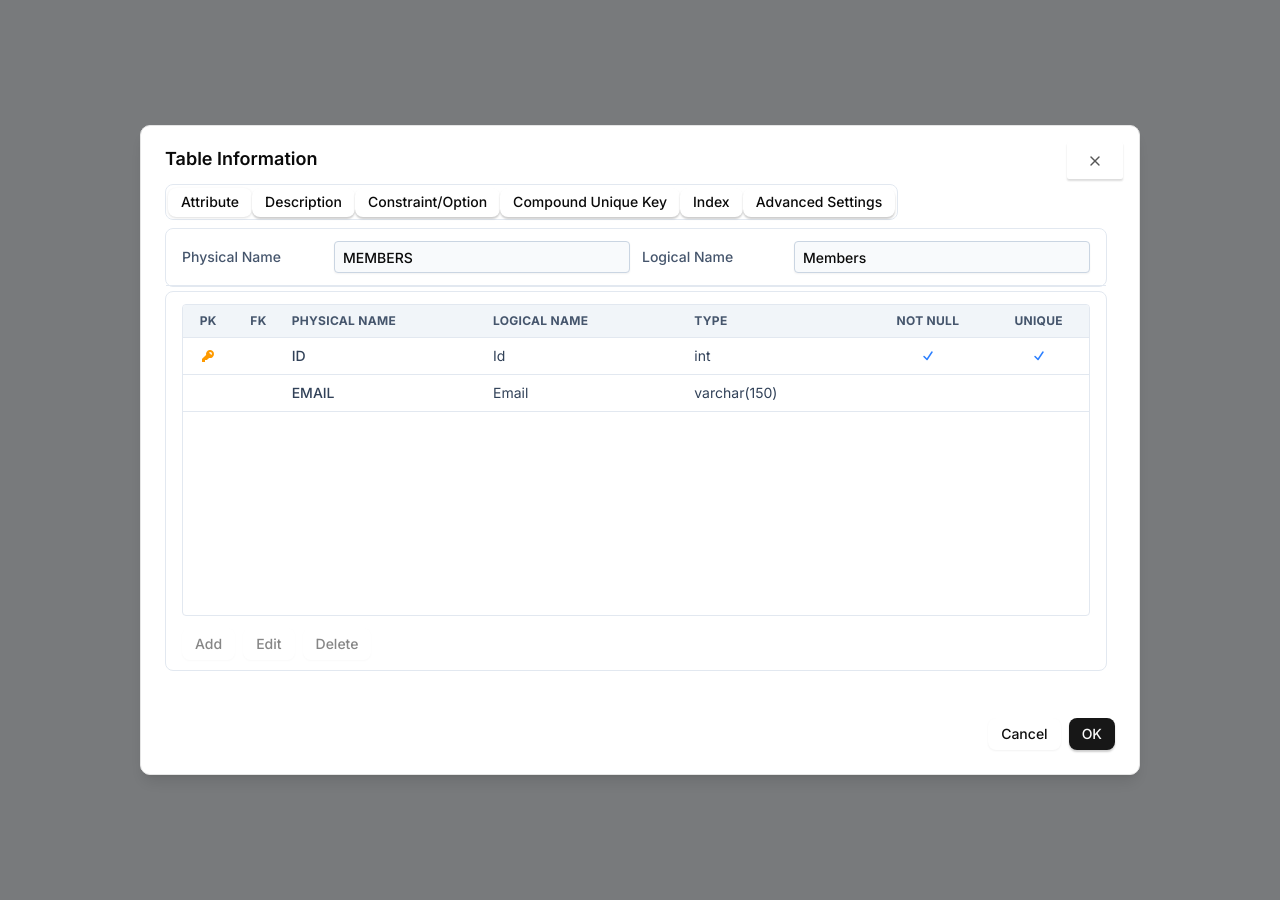
it: in read-only mode › opens the detail view for the selected row when Edit is clicked
Click the row "EMAIL Email varchar(150)".
click(313, 392)  # box [183,374,1089,412]
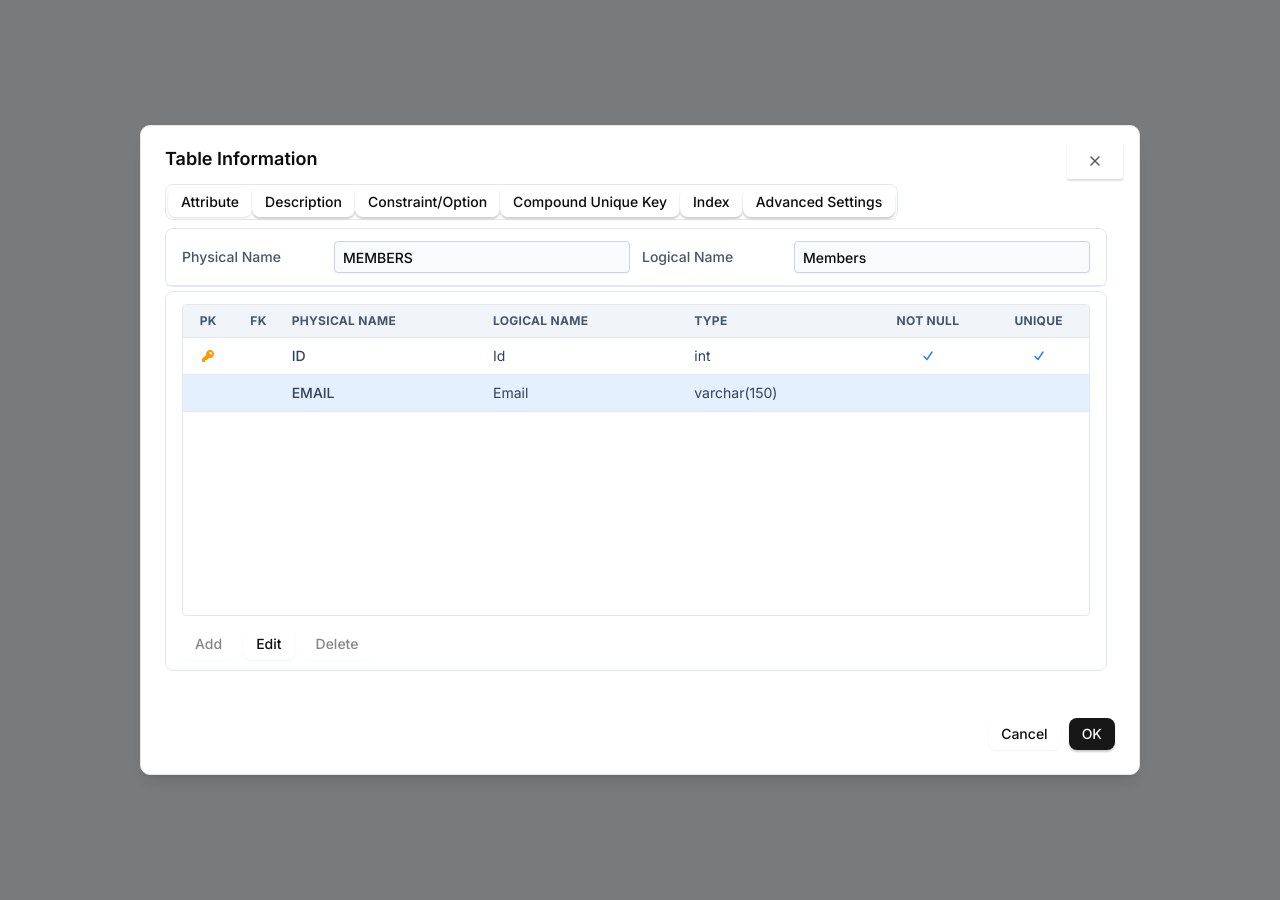
Click the button "Edit".
click(269, 644)  # box [243,628,294,660]
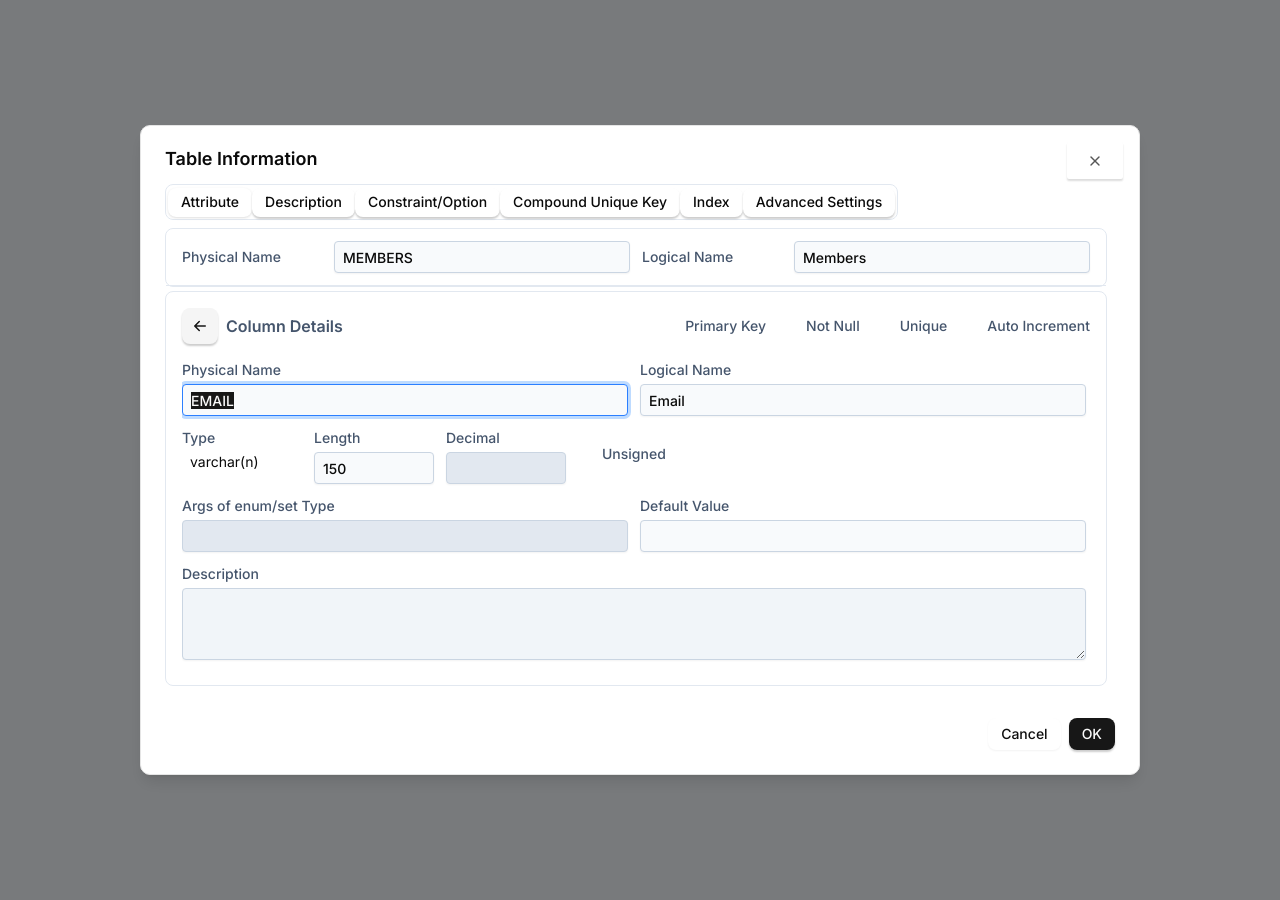
Expected: the field labelled "Physical Name" below "Column Details" holds "EMAIL", [182,384,628,416]
